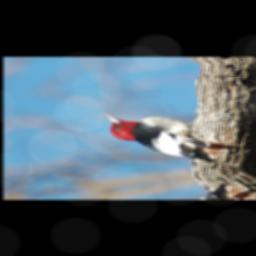Woodpecker: (99, 96, 220, 171)
